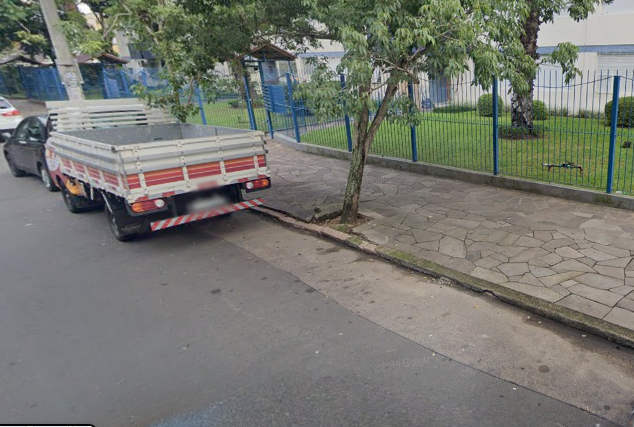vag77: (279, 147, 634, 425)
